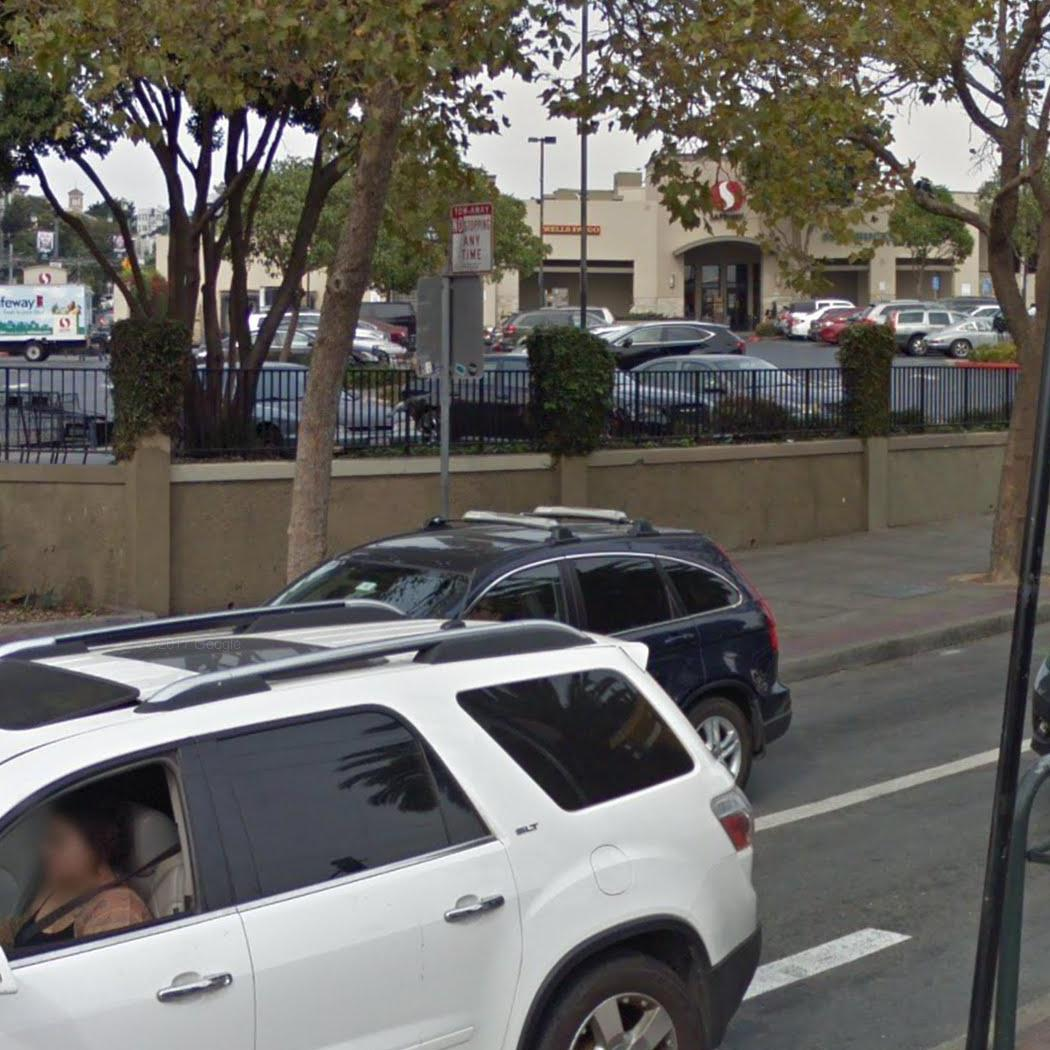No Parking Anytime: (446, 199, 498, 278)
